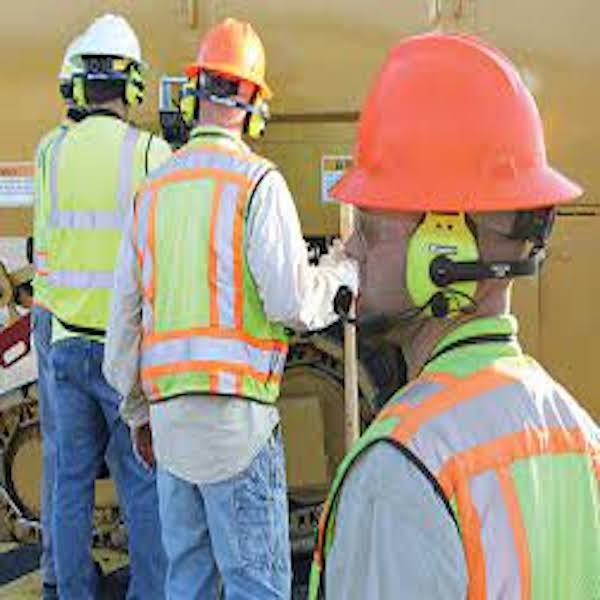helmet: (343, 28, 575, 207), (199, 19, 273, 84), (71, 14, 151, 64)
vest: (388, 355, 599, 600), (141, 140, 283, 399), (34, 117, 137, 337)
